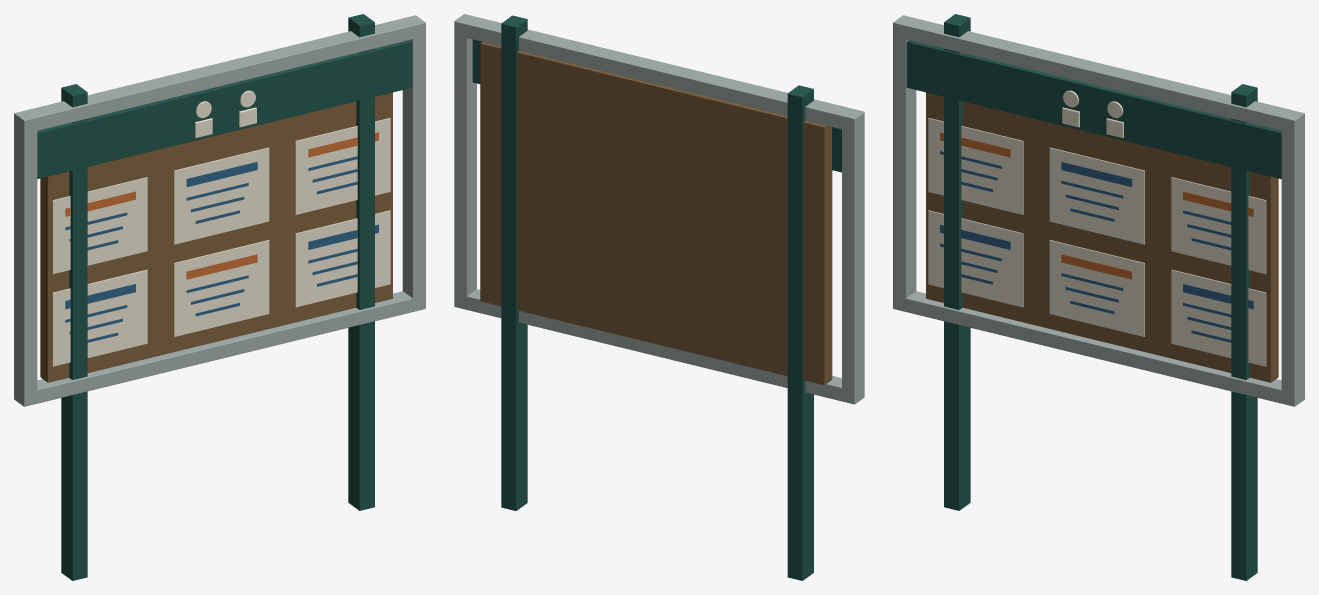
The model's file is edited.glb.
3 views of the same model, side by side, from view 1: azimuth 30°, elevation 25°; view 2: azimuth 150°, elevation 25°; view 3: azimuth 330°, elevation 25° (orthographic).
Parts seen in each view (by area): view 1: BOARD_Backing, HEADER_Green, FRAME_Rail.001, SUPPORT_Post, SUPPORT_Post.001, FRAME_Rail, FRAME_Side, PAPER_Sheet.001, PAPER_Sheet.004, FRAME_Side.001, PAPER_Sheet.003, PAPER_Sheet (+4 smaller); view 2: BOARD_Backing, SUPPORT_Post, SUPPORT_Post.001, FRAME_Rail.001, FRAME_Side, FRAME_Side.001, FRAME_Rail, HEADER_Green; view 3: BOARD_Backing, HEADER_Green, FRAME_Rail.001, SUPPORT_Post.001, SUPPORT_Post, FRAME_Rail, FRAME_Side.001, PAPER_Sheet.001, PAPER_Sheet.004, FRAME_Side, PAPER_Sheet.005, PAPER_Sheet.002 (+4 smaller).
Part boxes in pixels (box(x1,y1,x2,y2)): BOARD_Backing: box(40, 92, 392, 382); HEADER_Green: box(37, 40, 412, 178); FRAME_Rail.001: box(14, 15, 425, 133); SUPPORT_Post: box(61, 84, 87, 580); SUPPORT_Post.001: box(348, 14, 374, 510); FRAME_Rail: box(14, 291, 425, 406); FRAME_Side: box(14, 112, 37, 406); PAPER_Sheet.001: box(174, 147, 269, 244); PAPER_Sheet.004: box(174, 240, 269, 336); FRAME_Side.001: box(402, 26, 425, 311); PAPER_Sheet.003: box(52, 269, 147, 366); PAPER_Sheet: box(52, 177, 147, 274); BOARD_Backing: box(480, 42, 832, 384); SUPPORT_Post: box(787, 85, 813, 580); SUPPORT_Post.001: box(501, 15, 527, 510); FRAME_Rail.001: box(454, 14, 864, 132); FRAME_Side: box(842, 112, 864, 403); FRAME_Side.001: box(454, 23, 476, 309); FRAME_Rail: box(454, 289, 864, 404); HEADER_Green: box(472, 39, 841, 172); BOARD_Backing: box(926, 92, 1278, 382); HEADER_Green: box(906, 40, 1281, 178); FRAME_Rail.001: box(893, 15, 1304, 133); SUPPORT_Post.001: box(1231, 84, 1257, 580); SUPPORT_Post: box(944, 14, 970, 510); FRAME_Rail: box(893, 291, 1304, 406); FRAME_Side.001: box(1281, 112, 1304, 406); PAPER_Sheet.001: box(1049, 147, 1144, 244); PAPER_Sheet.004: box(1049, 240, 1144, 336); FRAME_Side: box(893, 23, 916, 311); PAPER_Sheet.005: box(1171, 269, 1266, 366); PAPER_Sheet.002: box(1171, 177, 1266, 274).
Size of the model in its own units: 1.82 by 2.1 by 0.11.
